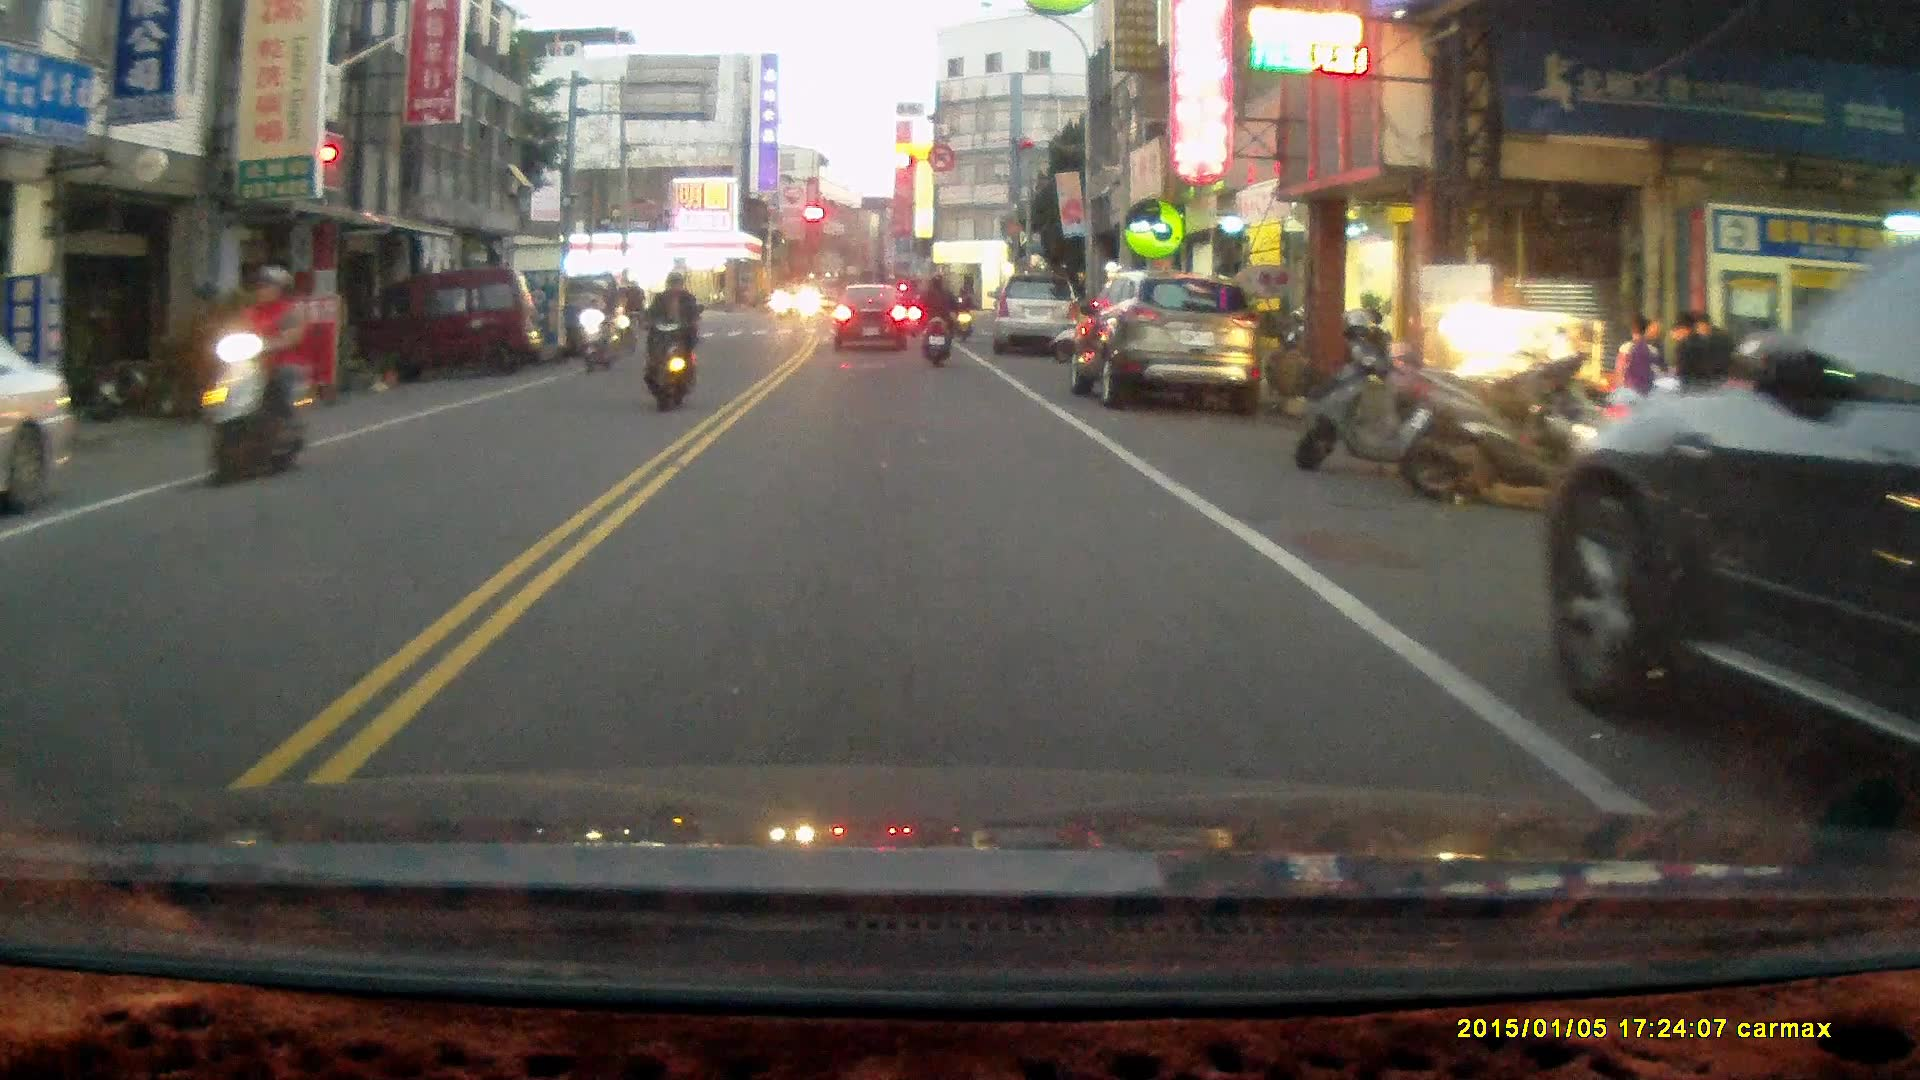pedestrian: (1666, 313, 1718, 443), (1615, 310, 1664, 439)
rider: (195, 262, 311, 491), (631, 269, 699, 412), (576, 276, 621, 375), (914, 270, 955, 371), (614, 273, 650, 355), (898, 275, 924, 335), (951, 283, 974, 342)
vehicle: (1540, 208, 1920, 809), (1071, 271, 1264, 412), (355, 269, 546, 381), (998, 272, 1082, 355)
